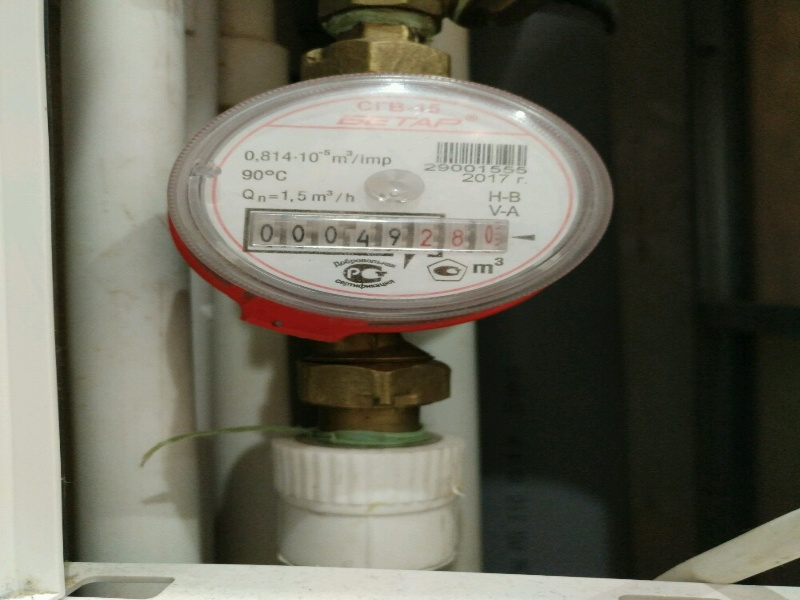meter: (241, 208, 511, 256)
